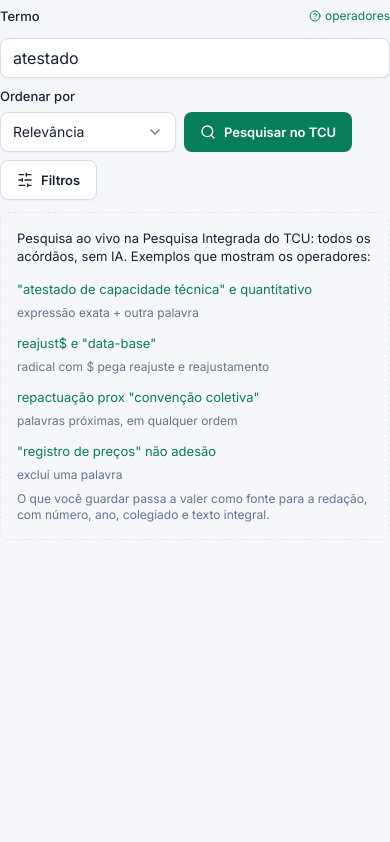
PesquisaTcu › pesquisa pela edge, mostra total, trecho marcado, "na base" e facetas; a faceta refaz a pesquisa com o filtro
Later steps or results of the test are not shown.
Step 1. Click the button "Pesquisar no TCU" → (268, 132), box [184, 112, 352, 152]
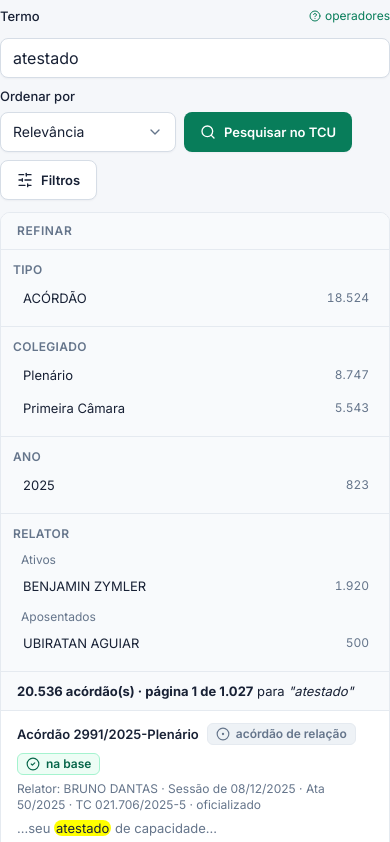
Now the text "20.536 acórdão(s) · página 1 de 1.027" is shown, box [17, 683, 253, 699]
Now the text "Acórdão 2991/2025-Plenário" is shown, box [17, 725, 199, 743]
Now the text "na base" is shown, box [46, 756, 92, 772]
Step 2. Click the button "Primeira Câmara 5.543" → (74, 408), box [13, 392, 377, 424]
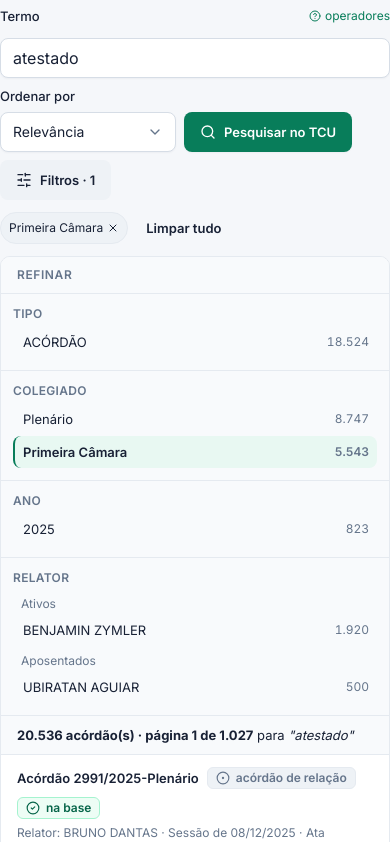
Now the element "Primeira Câmara Limpar tudo" is shown, box [0, 212, 234, 244]
